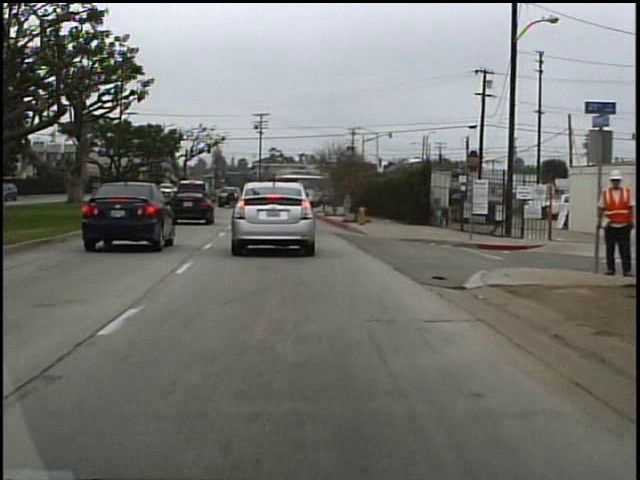person: (588, 167, 628, 281)
